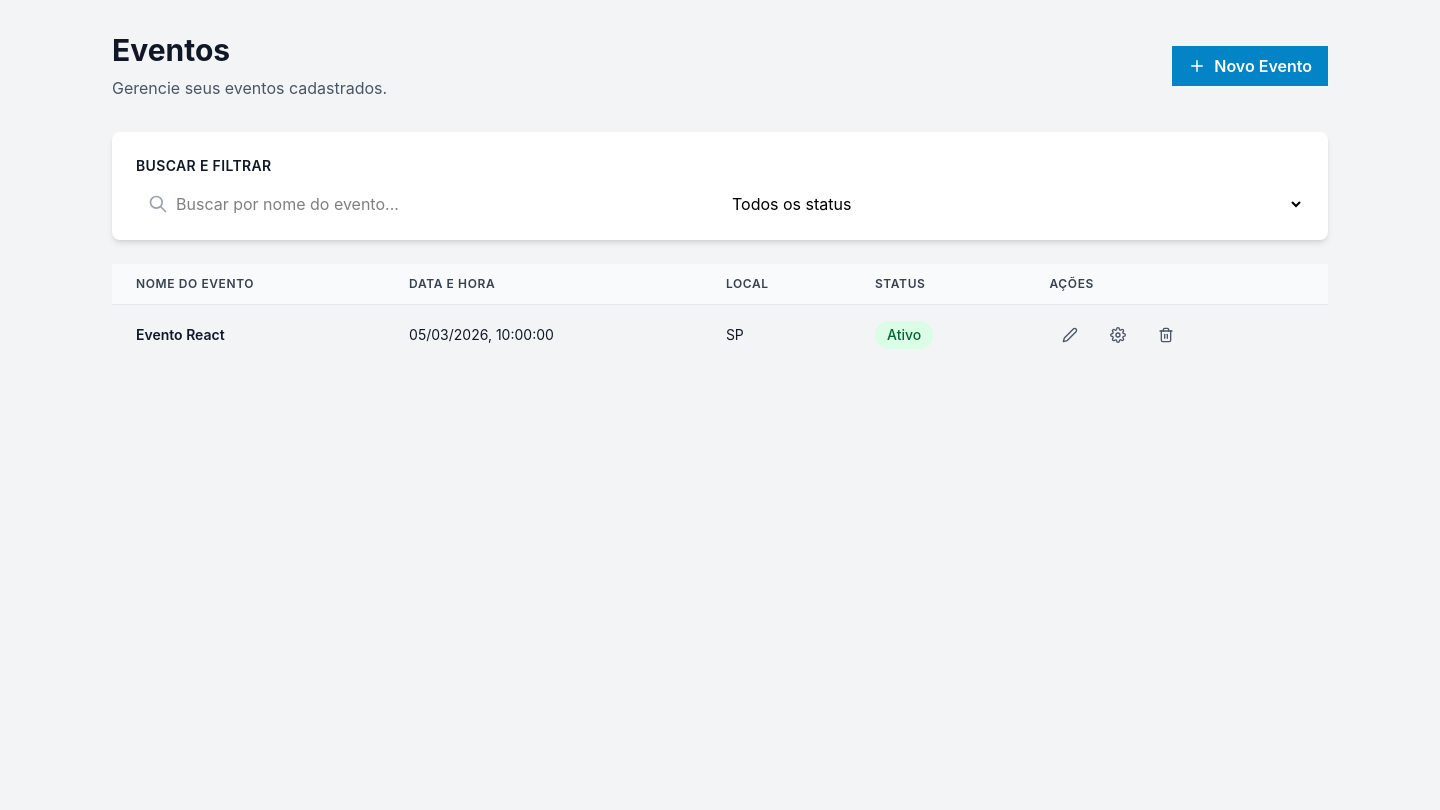
Events Page › should remove event after confirmation
Expected: the text "Evento React" is shown, x1=136 y1=326 x2=225 y2=343
Click the button titled "Remover evento".
click(1166, 335)  # box x1=1146 y1=321 x2=1186 y2=349
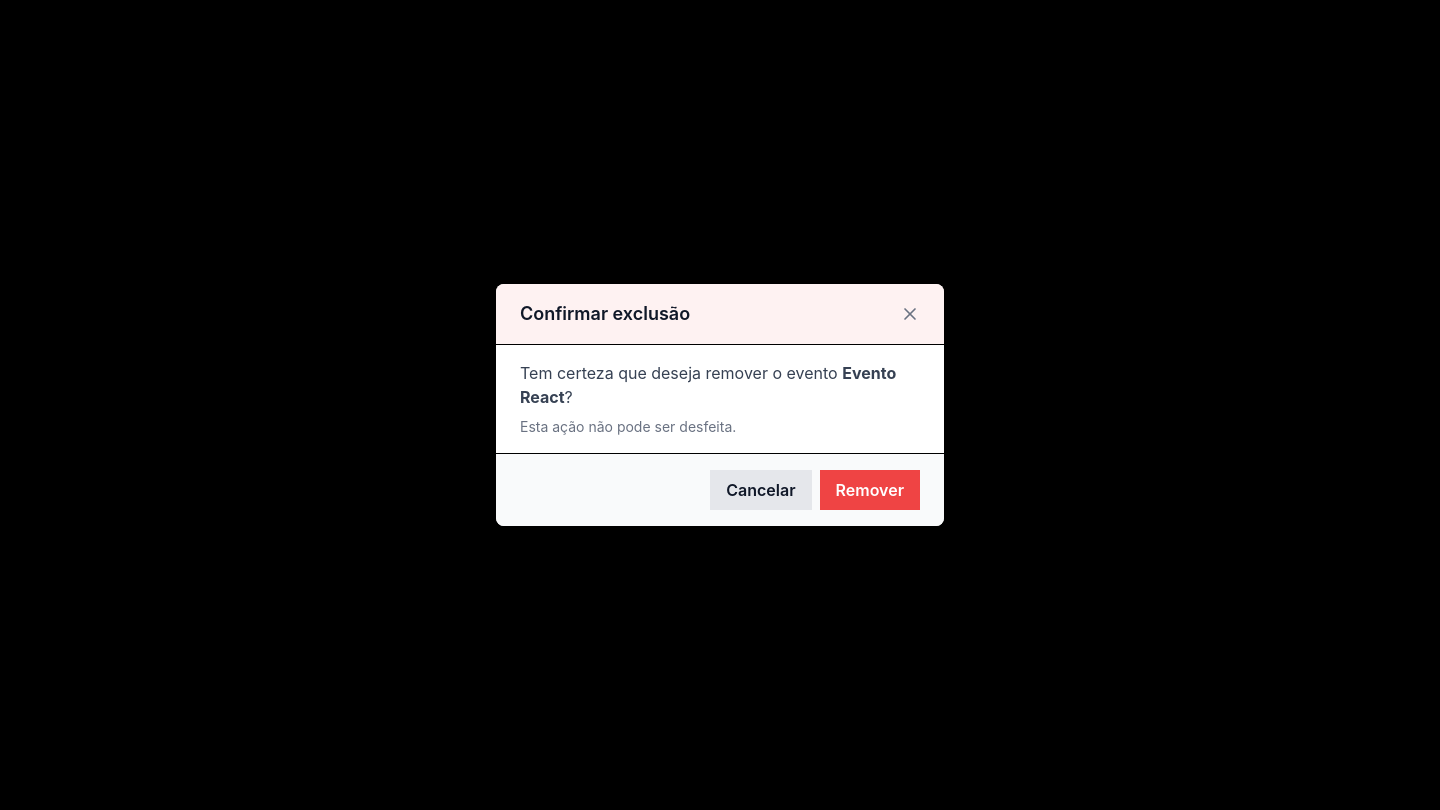
Click the button "Remover".
click(870, 490)  # box x1=820 y1=470 x2=920 y2=510
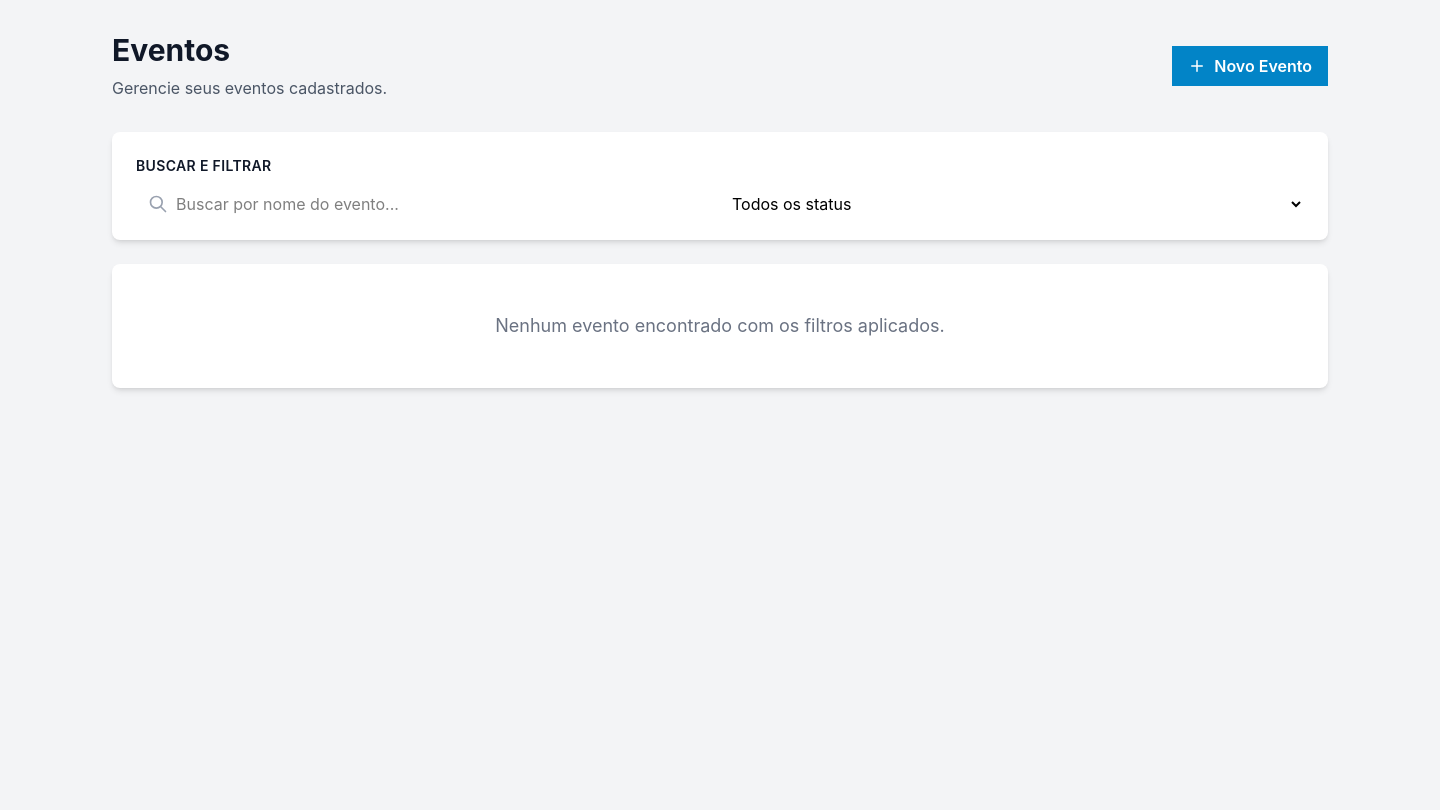
Expected: the text "Evento React" is gone
